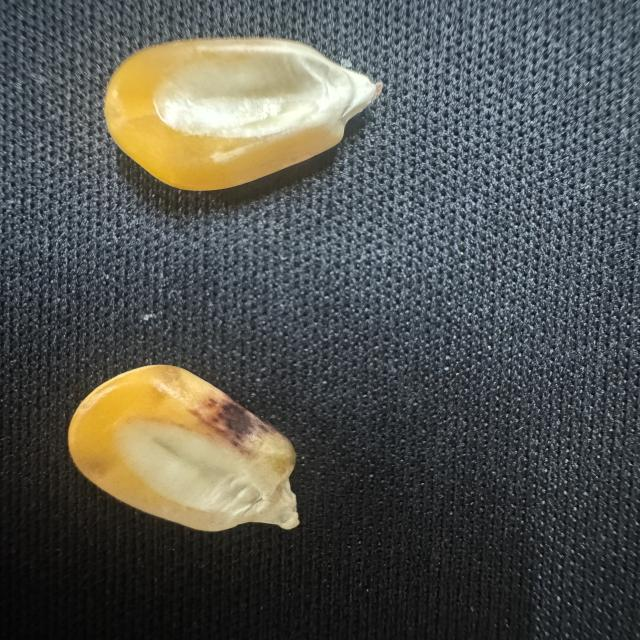Bad-Seed: (60, 357, 306, 550)
Good-Seed: (98, 34, 394, 204)
